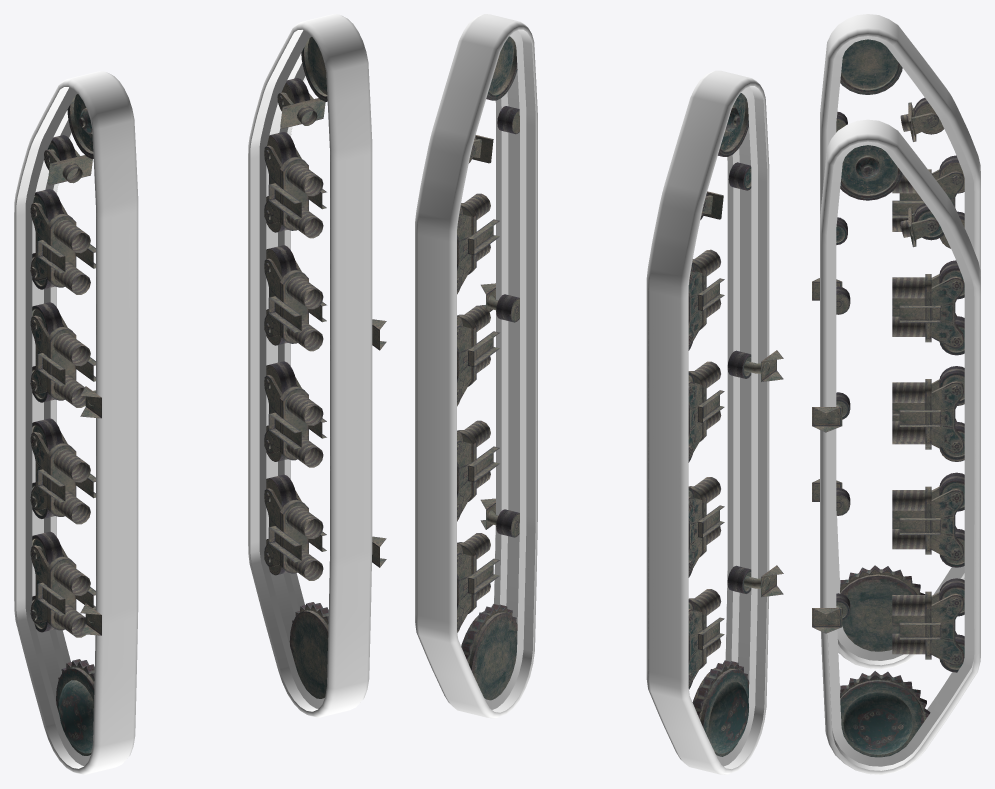
The model's file is Chassis.glb.
3 views of the same model, side by side, from view 1: azimuth 30°, elevation 25°; view 2: azimuth 150°, elevation 25°; view 3: azimuth 270°, elevation 25° (orthographic). The views are drawn at different scales.
Parts seen in each view (by area): view 1: set_1_group_0, set_0_group_0, set_5_group_0, set_3_group_0; view 2: set_0_group_0, set_1_group_0, set_3_group_0, set_5_group_0; view 3: set_3_group_0, set_1_group_0, set_5_group_0, set_0_group_0, set_2_group_0.
Part boxes in pixels (left/top/right/bottom): set_1_group_0: left=248, top=14, right=372, bottom=717; set_0_group_0: left=14, top=71, right=138, bottom=774; set_5_group_0: left=30, top=94, right=101, bottom=755; set_3_group_0: left=264, top=37, right=386, bottom=698; set_0_group_0: left=646, top=70, right=769, bottom=774; set_1_group_0: left=415, top=14, right=537, bottom=718; set_3_group_0: left=457, top=36, right=519, bottom=700; set_5_group_0: left=688, top=93, right=783, bottom=756; set_3_group_0: left=812, top=145, right=964, bottom=757; set_1_group_0: left=820, top=119, right=980, bottom=774; set_5_group_0: left=812, top=39, right=964, bottom=651; set_0_group_0: left=820, top=14, right=980, bottom=669; set_2_group_0: left=939, top=529, right=964, bottom=567.
Bounding box in the file's own units: 2.07 × 4.46 × 1.06.
Materials: 6 (4 with a texture image).
